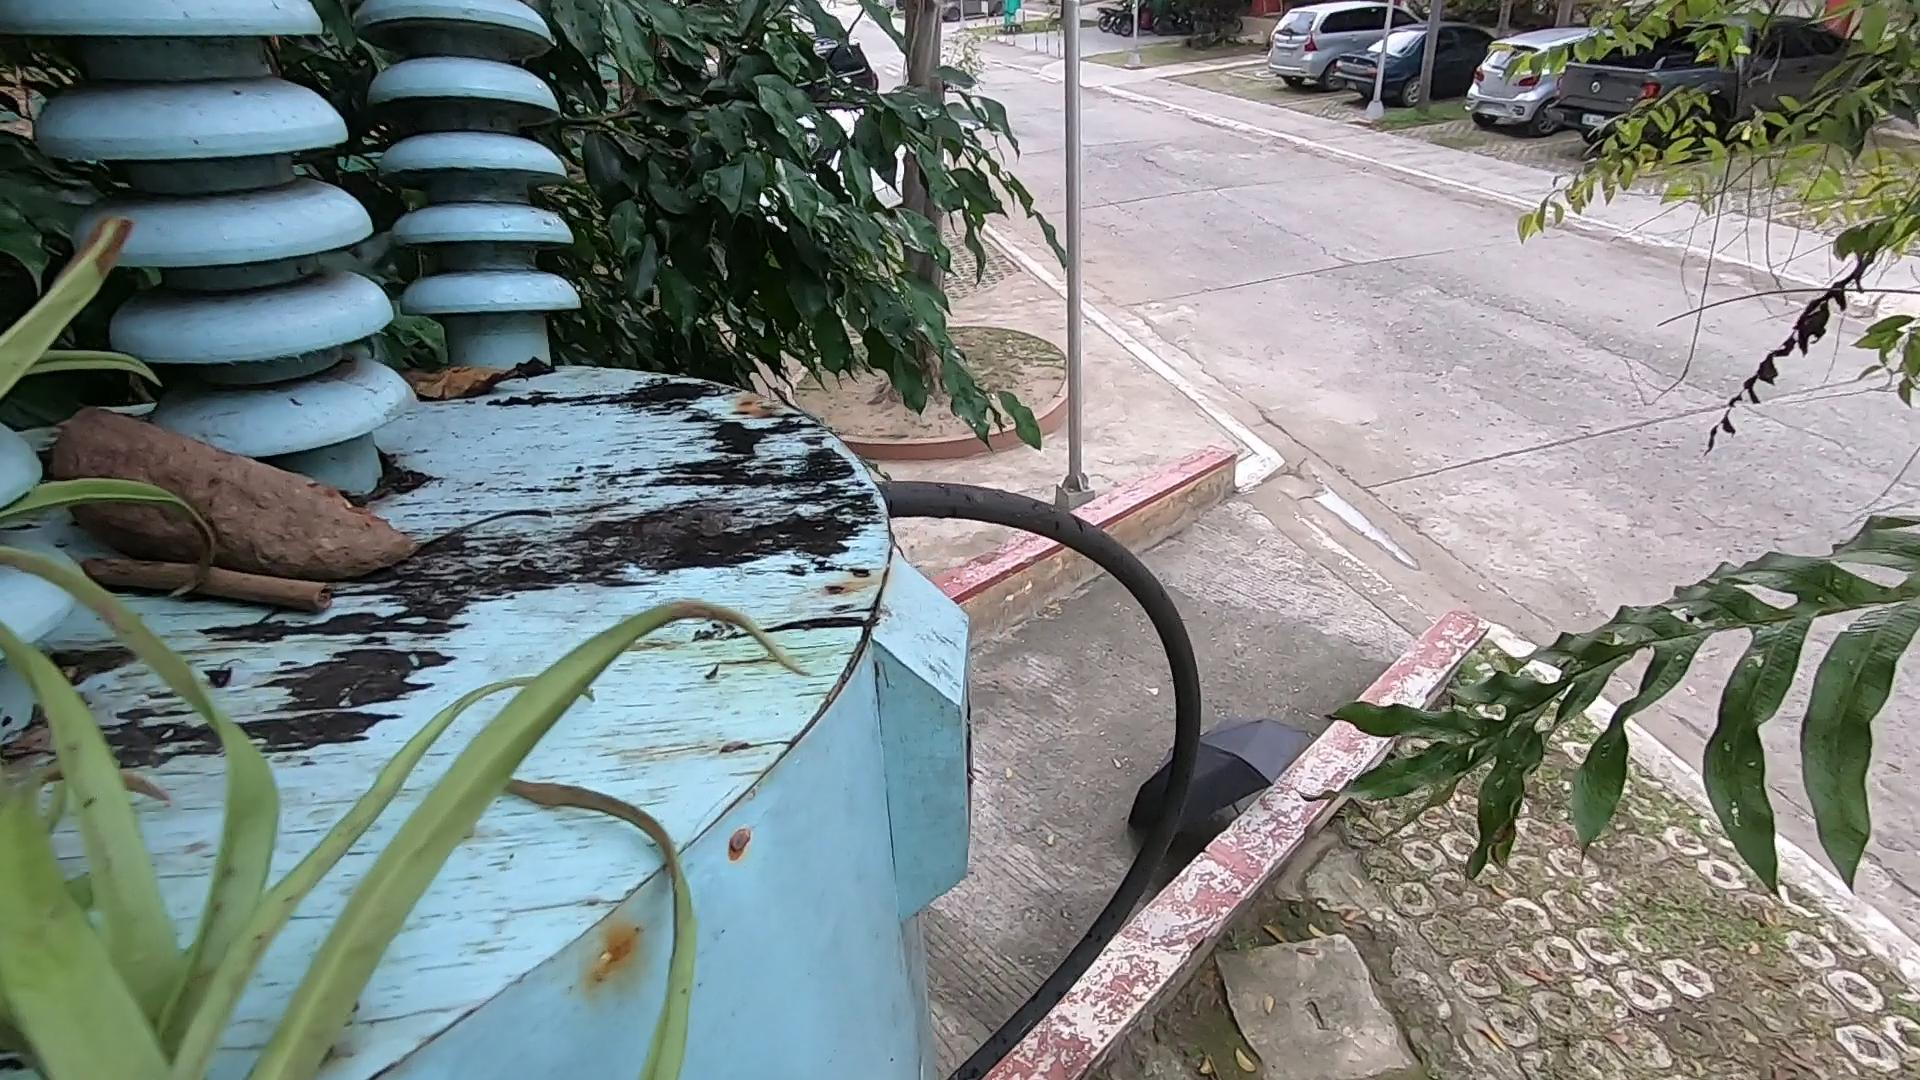leaf: (18, 541, 723, 1080), (418, 356, 580, 413)
mahogany fruit: (28, 353, 451, 560)
tree branch: (82, 545, 349, 636)
